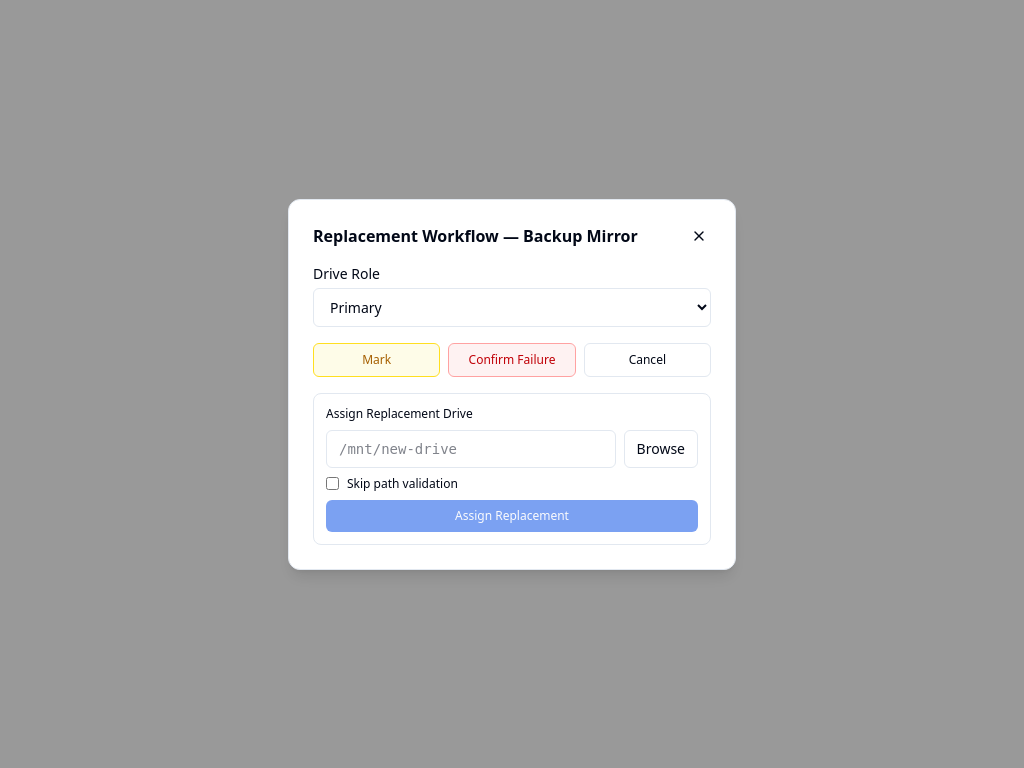
Test: ReplacementWorkflow › assign button is enabled when path is entered
This screenshot has width=1024, height=768.
Type "/mnt/new" into the field with test id "assign-path-input" at (471, 448), box [326, 430, 616, 468]
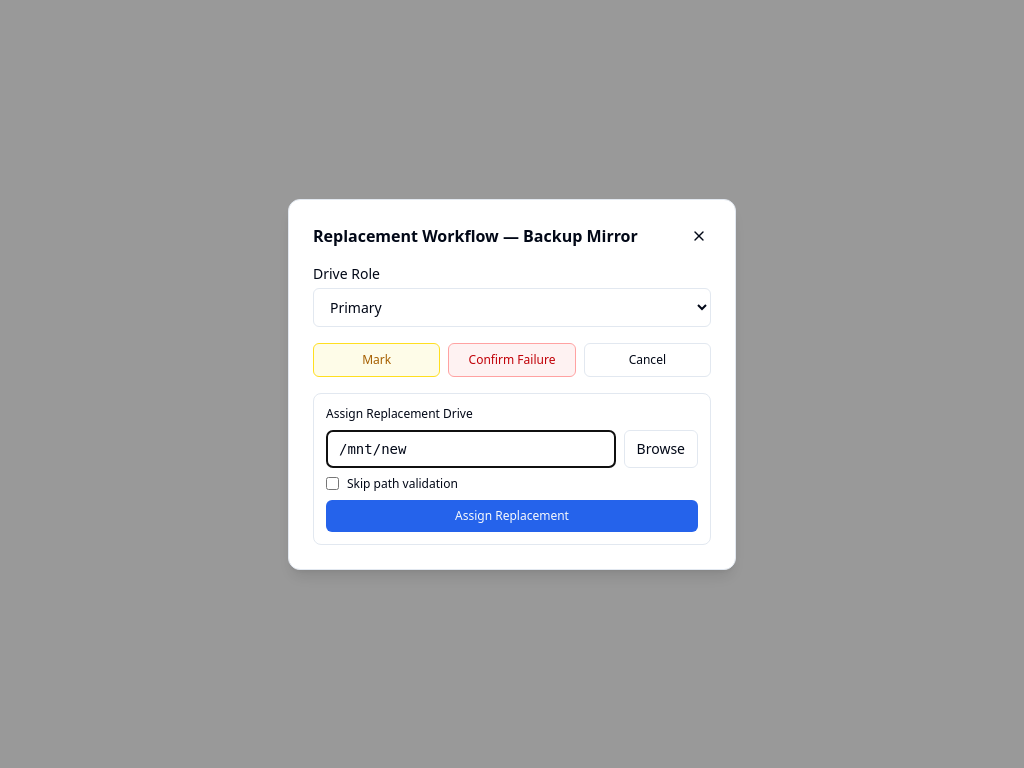
Expected: the button with test id "assign-replacement-button" is enabled, [326, 500, 698, 532]
